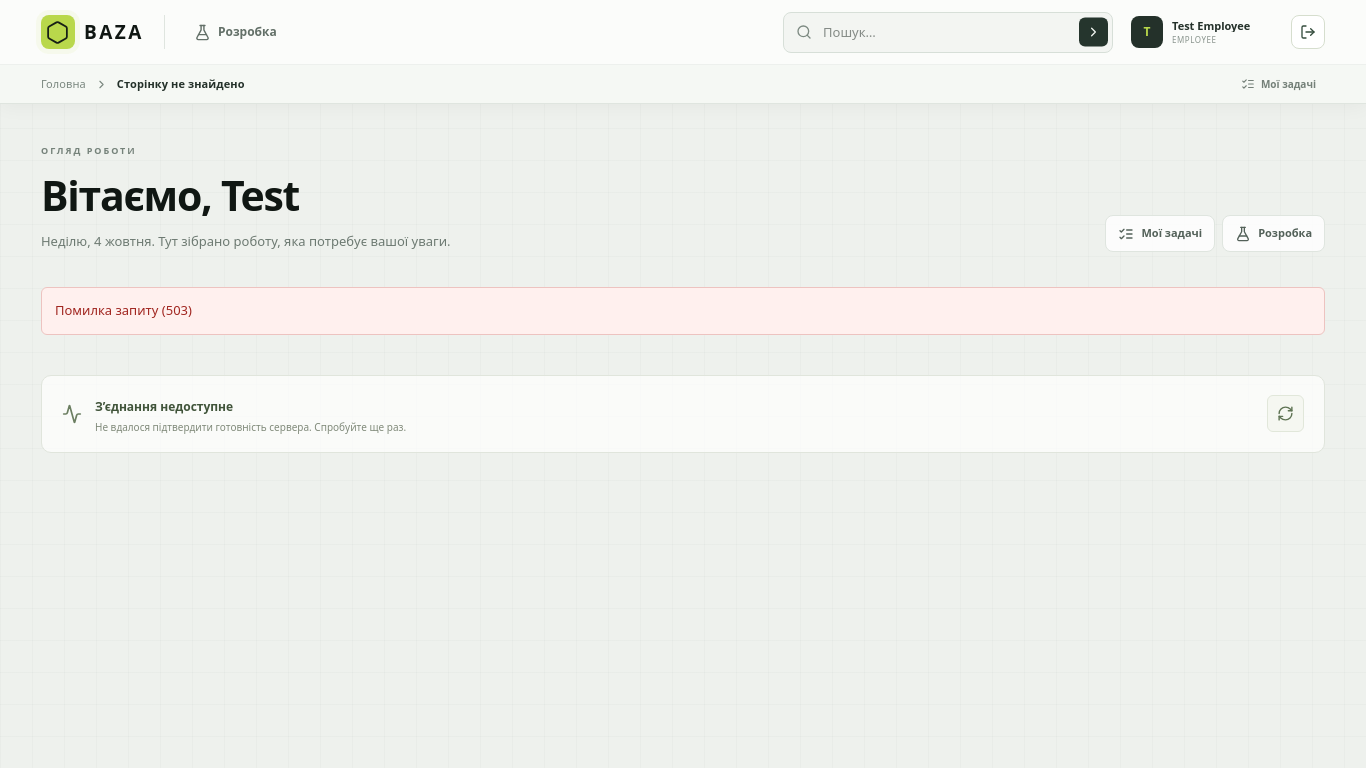
Scenario: authenticated shell › retries an unavailable backend
Expected: the text "З’єднання недоступне" is shown, [95, 398, 233, 415]
Click the button named "Перевірити з’єднання": (1286, 414) [1267, 395, 1304, 432]
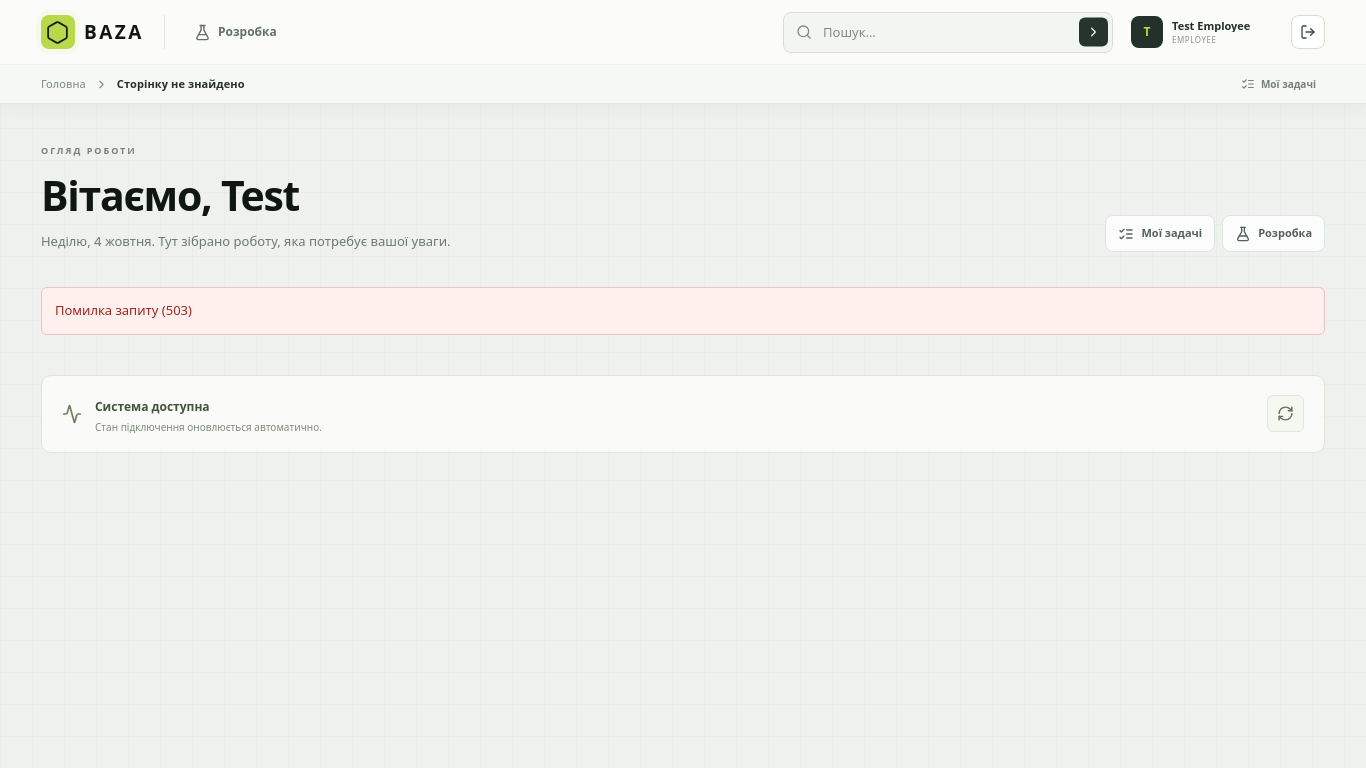
Result: the text "Система доступна" is shown at [95, 398, 210, 415]
